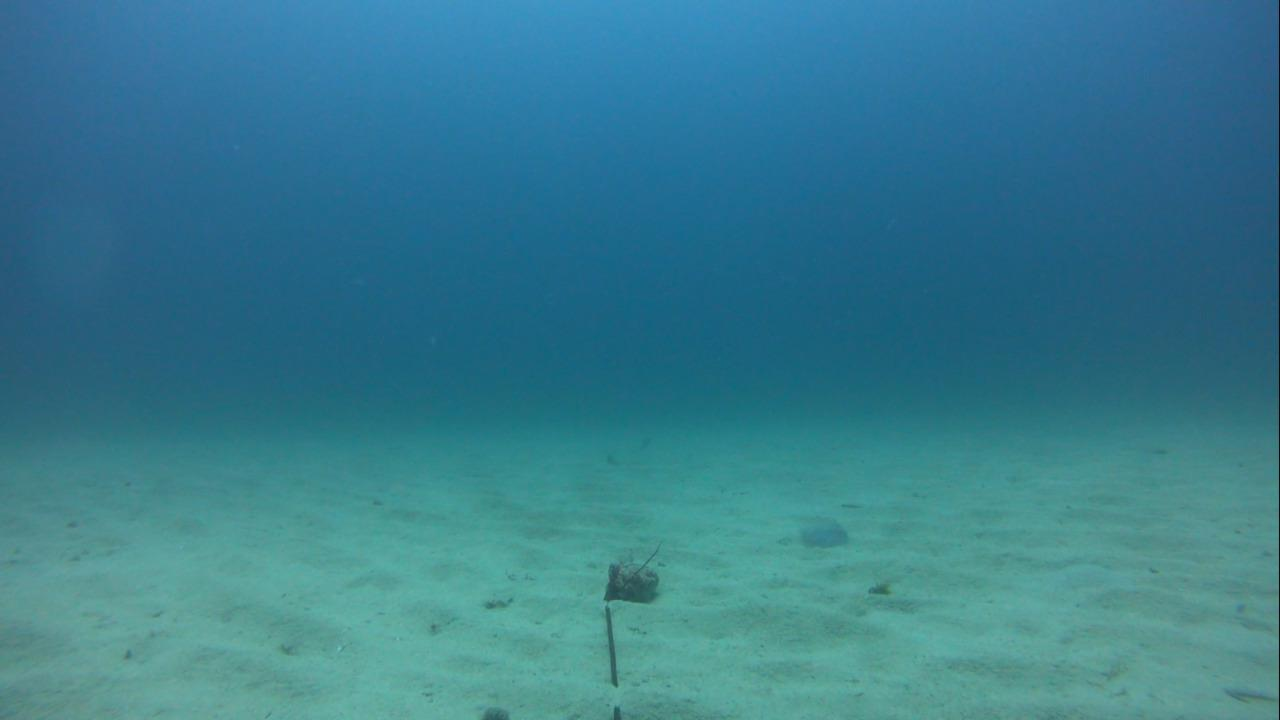raor: (778, 506, 856, 556)
